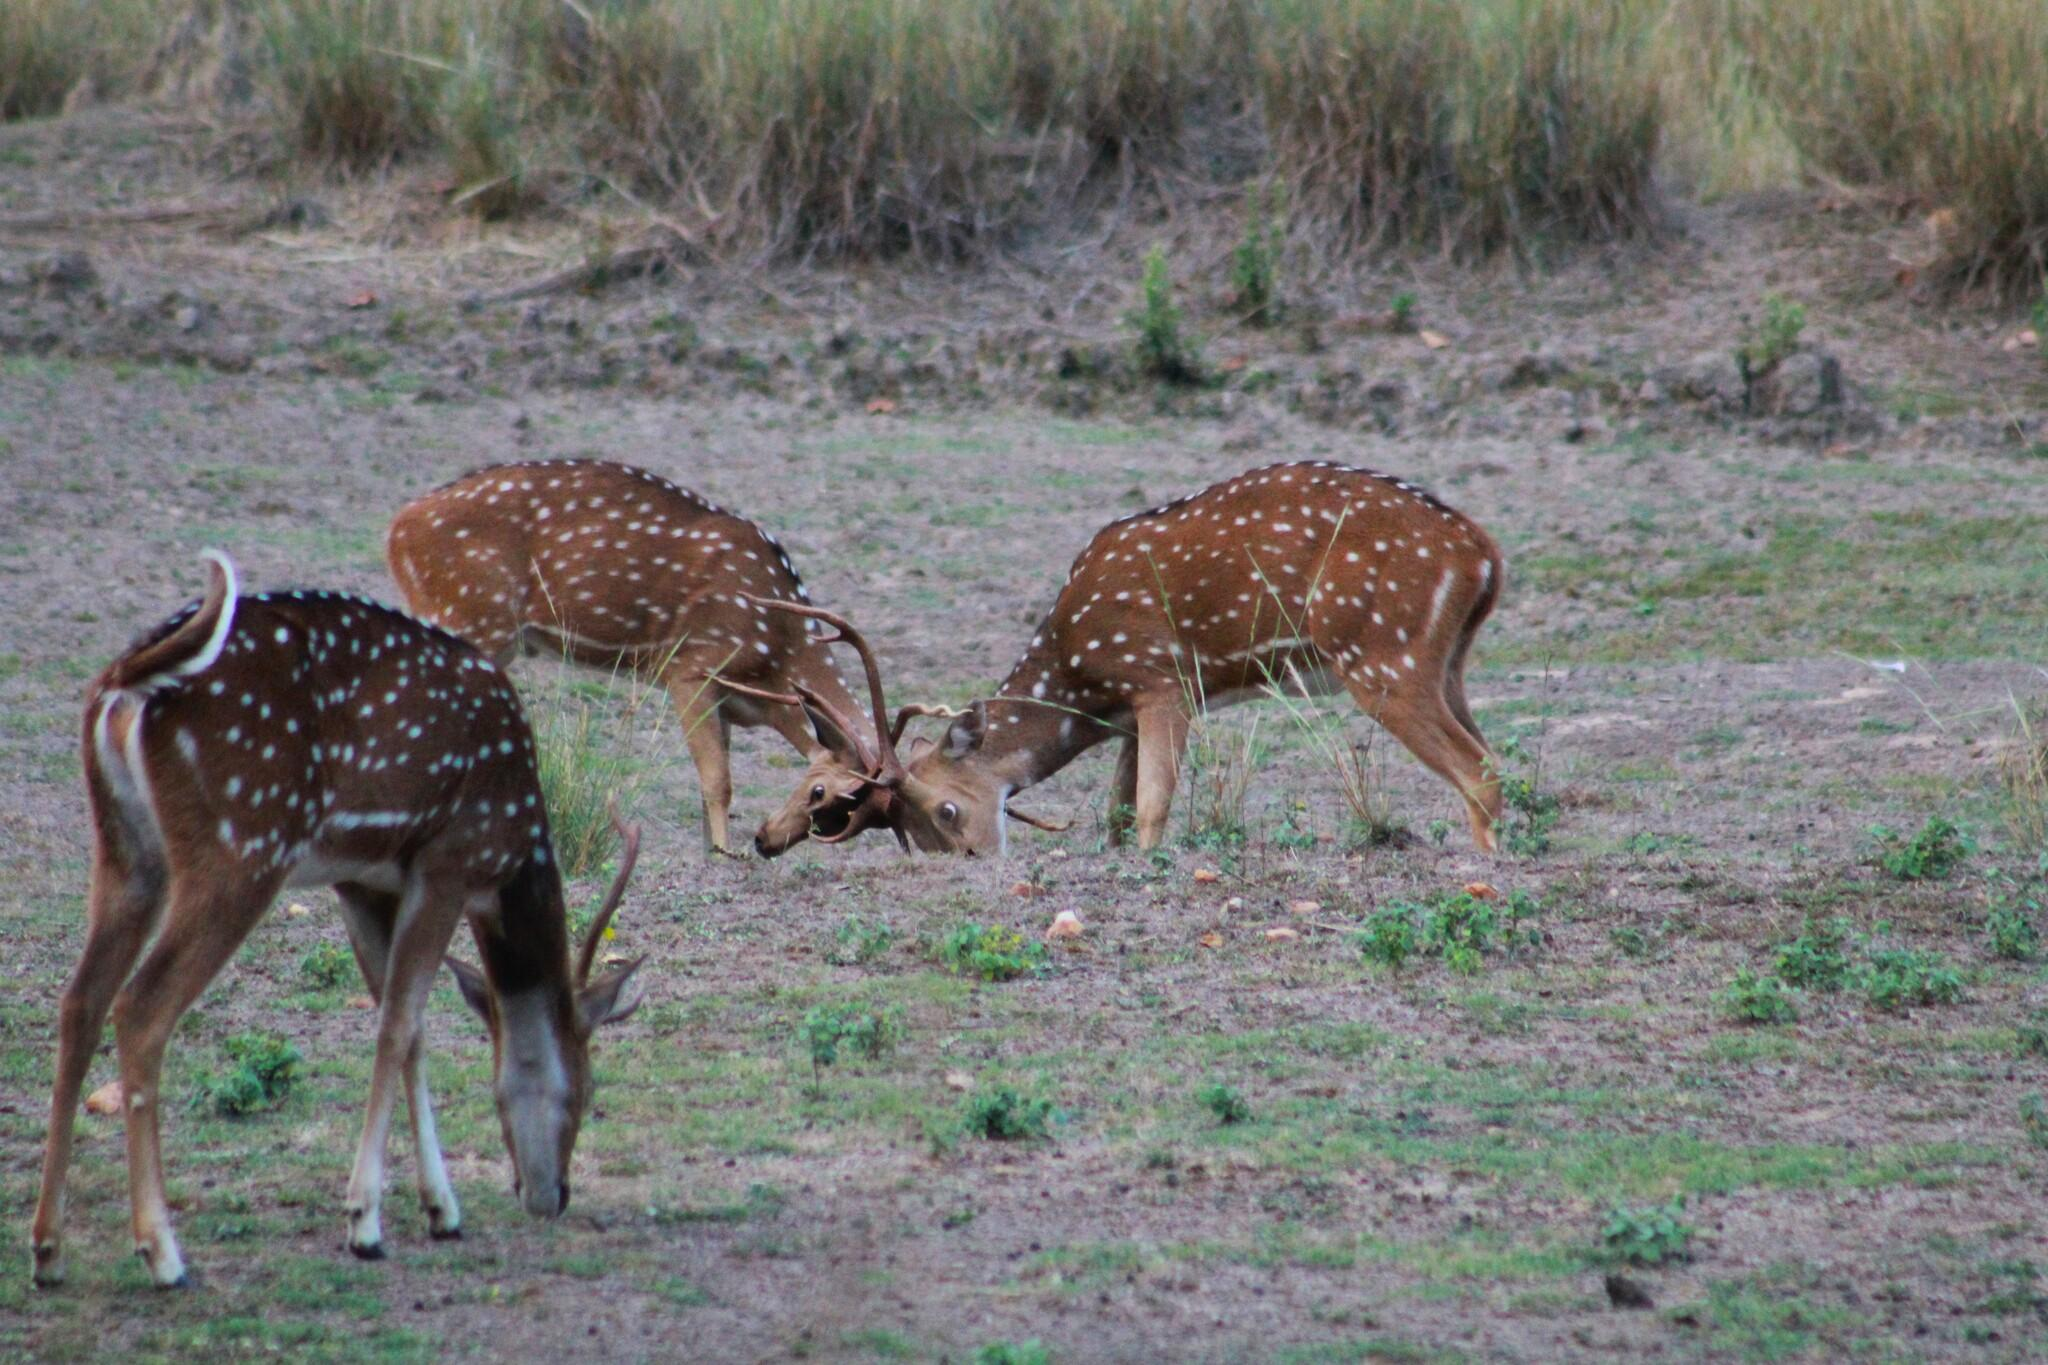Deer: (33, 550, 640, 1284), (708, 462, 1501, 855), (387, 459, 892, 855)
